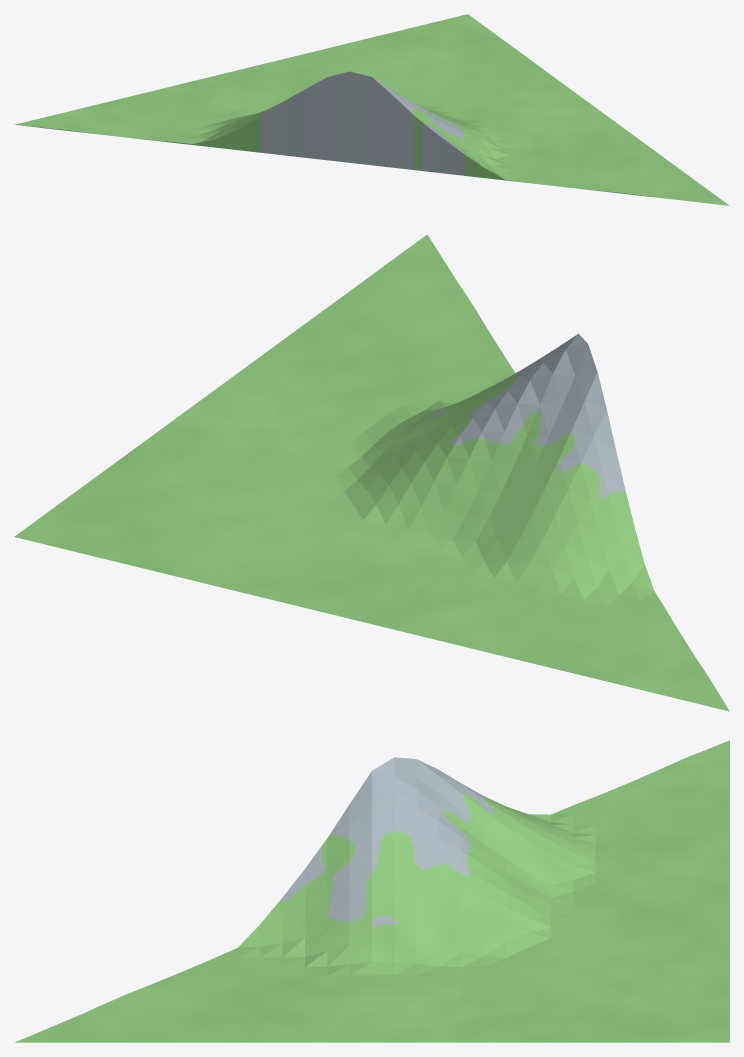
The model's file is Grass_RockyMountains_12_SE.obj.
3 renders of one model, top to bottom at view 1: azimuth 30°, elevation 25°; view 2: azimuth 150°, elevation 25°; view 3: azimuth 270°, elevation 25°, orthographic. The views are drawn at different scales.
Bounding box in the file's own units: 10 × 1.92 × 10.
Materials: 1 (1 with a texture image).
